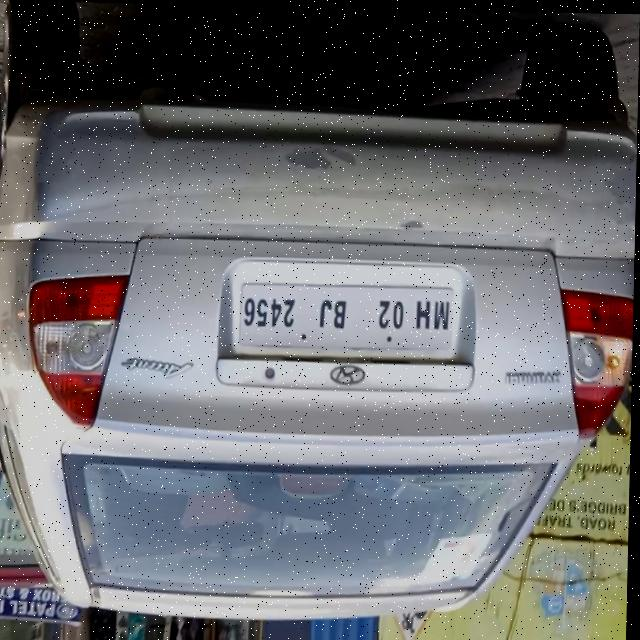plate: (238, 279, 458, 351)
